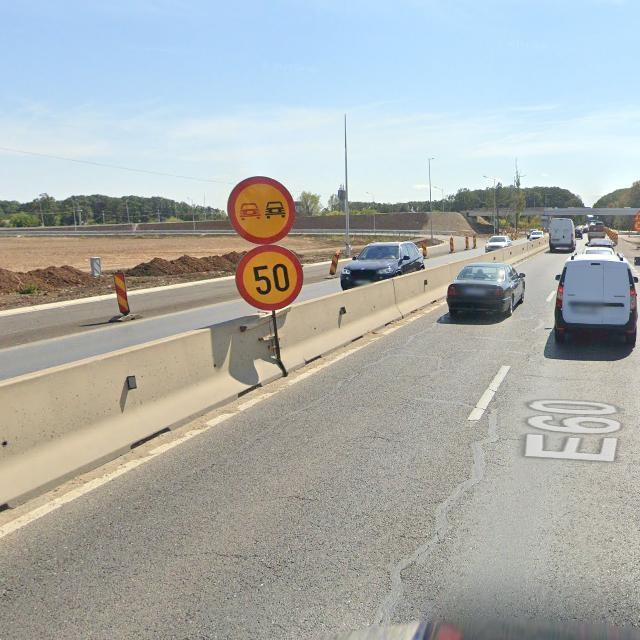forb_overtake: (228, 175, 295, 245)
forb_speed_over_50: (236, 245, 303, 311)
